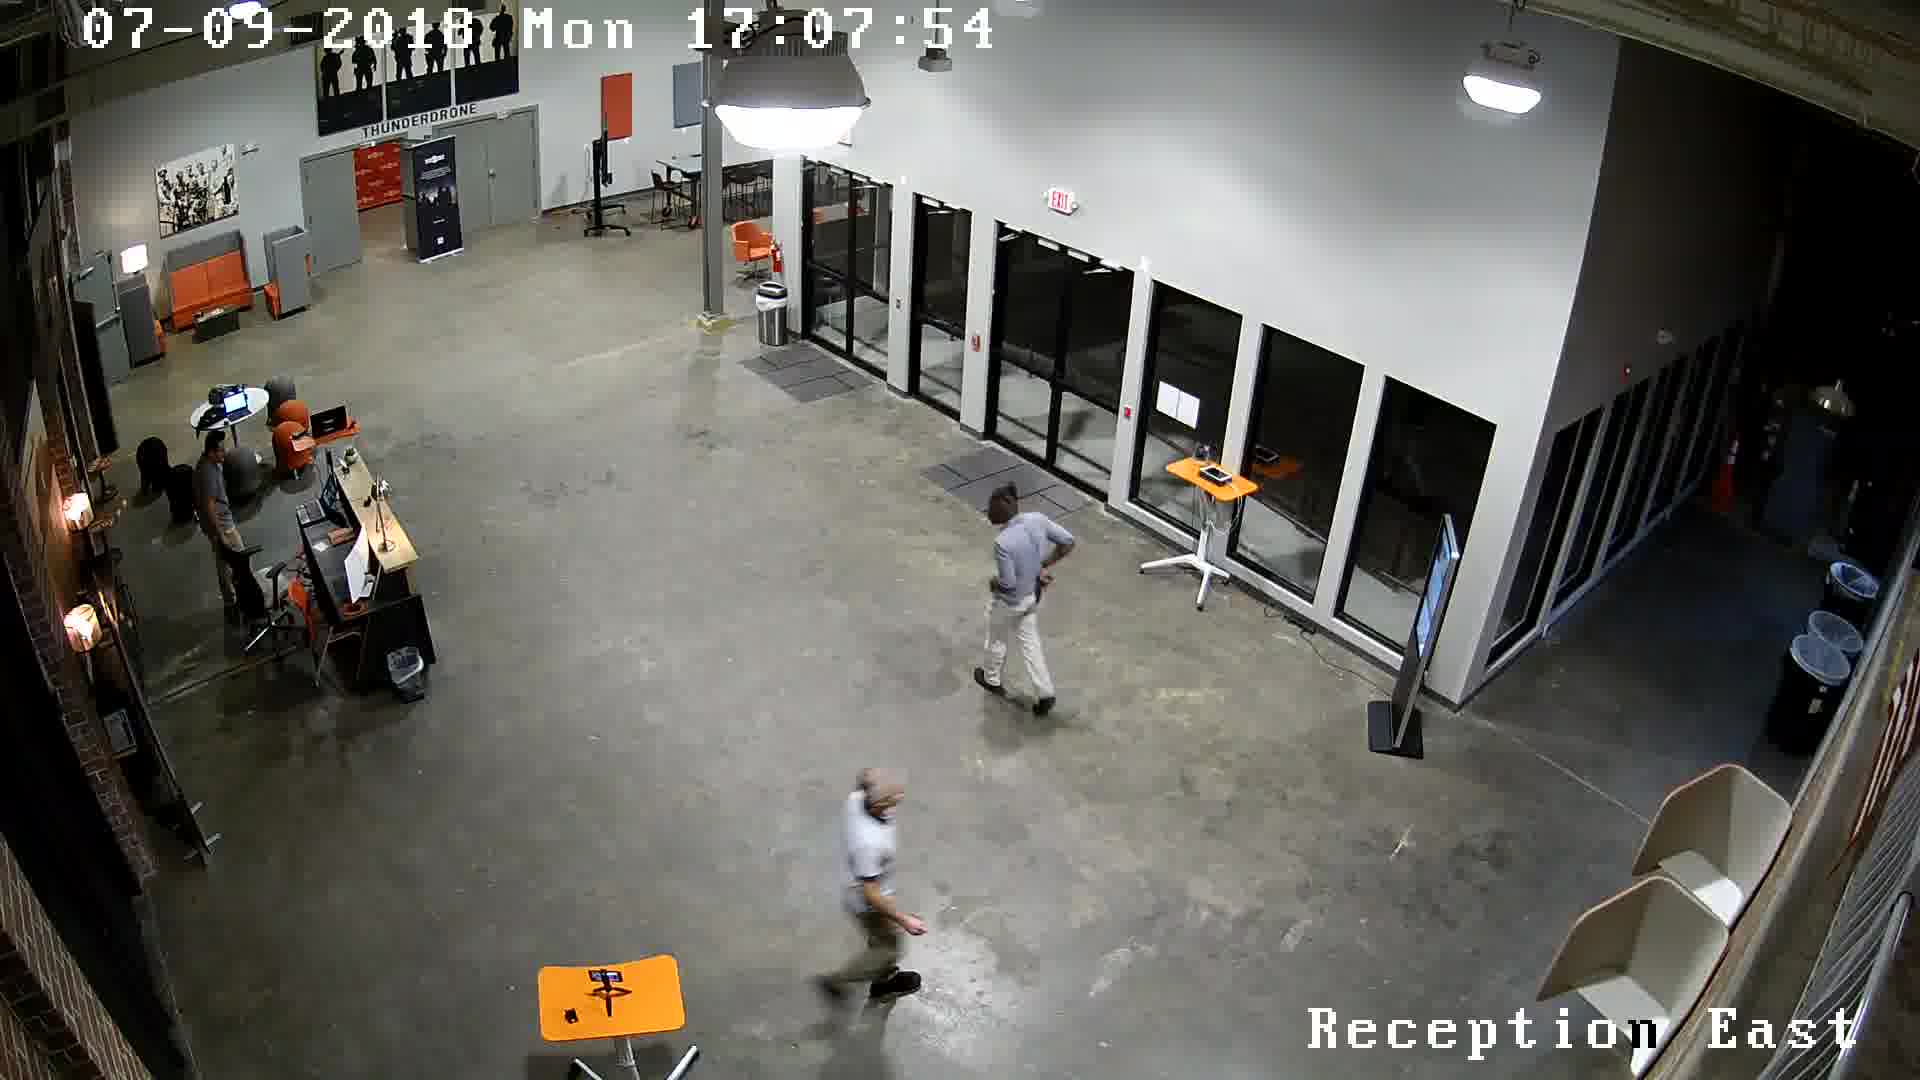pistol: (1023, 554, 1068, 612)
